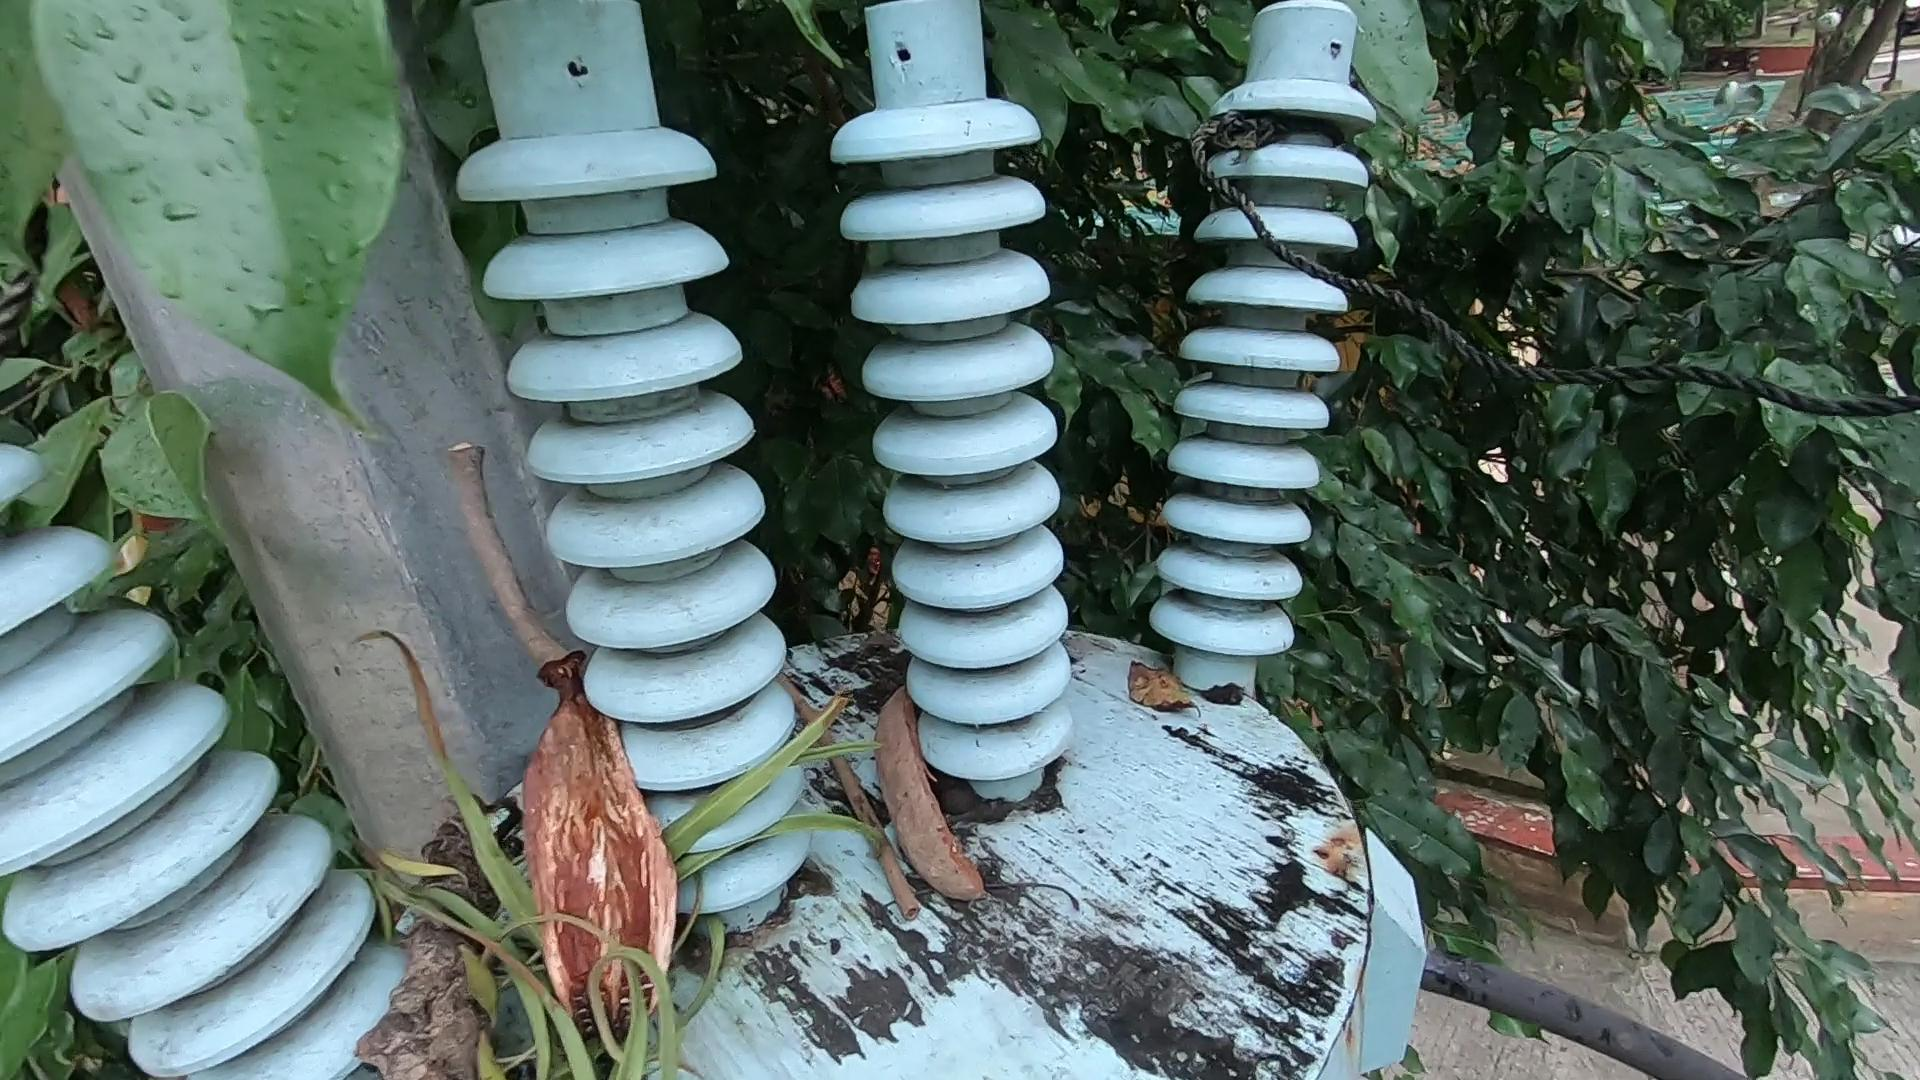branch with leaves: (356, 807, 675, 1080)
leaf: (1102, 622, 1201, 824)
mahogany fruit: (531, 649, 649, 990), (884, 688, 1006, 949)
tree branch: (400, 405, 628, 702), (800, 661, 945, 988)
